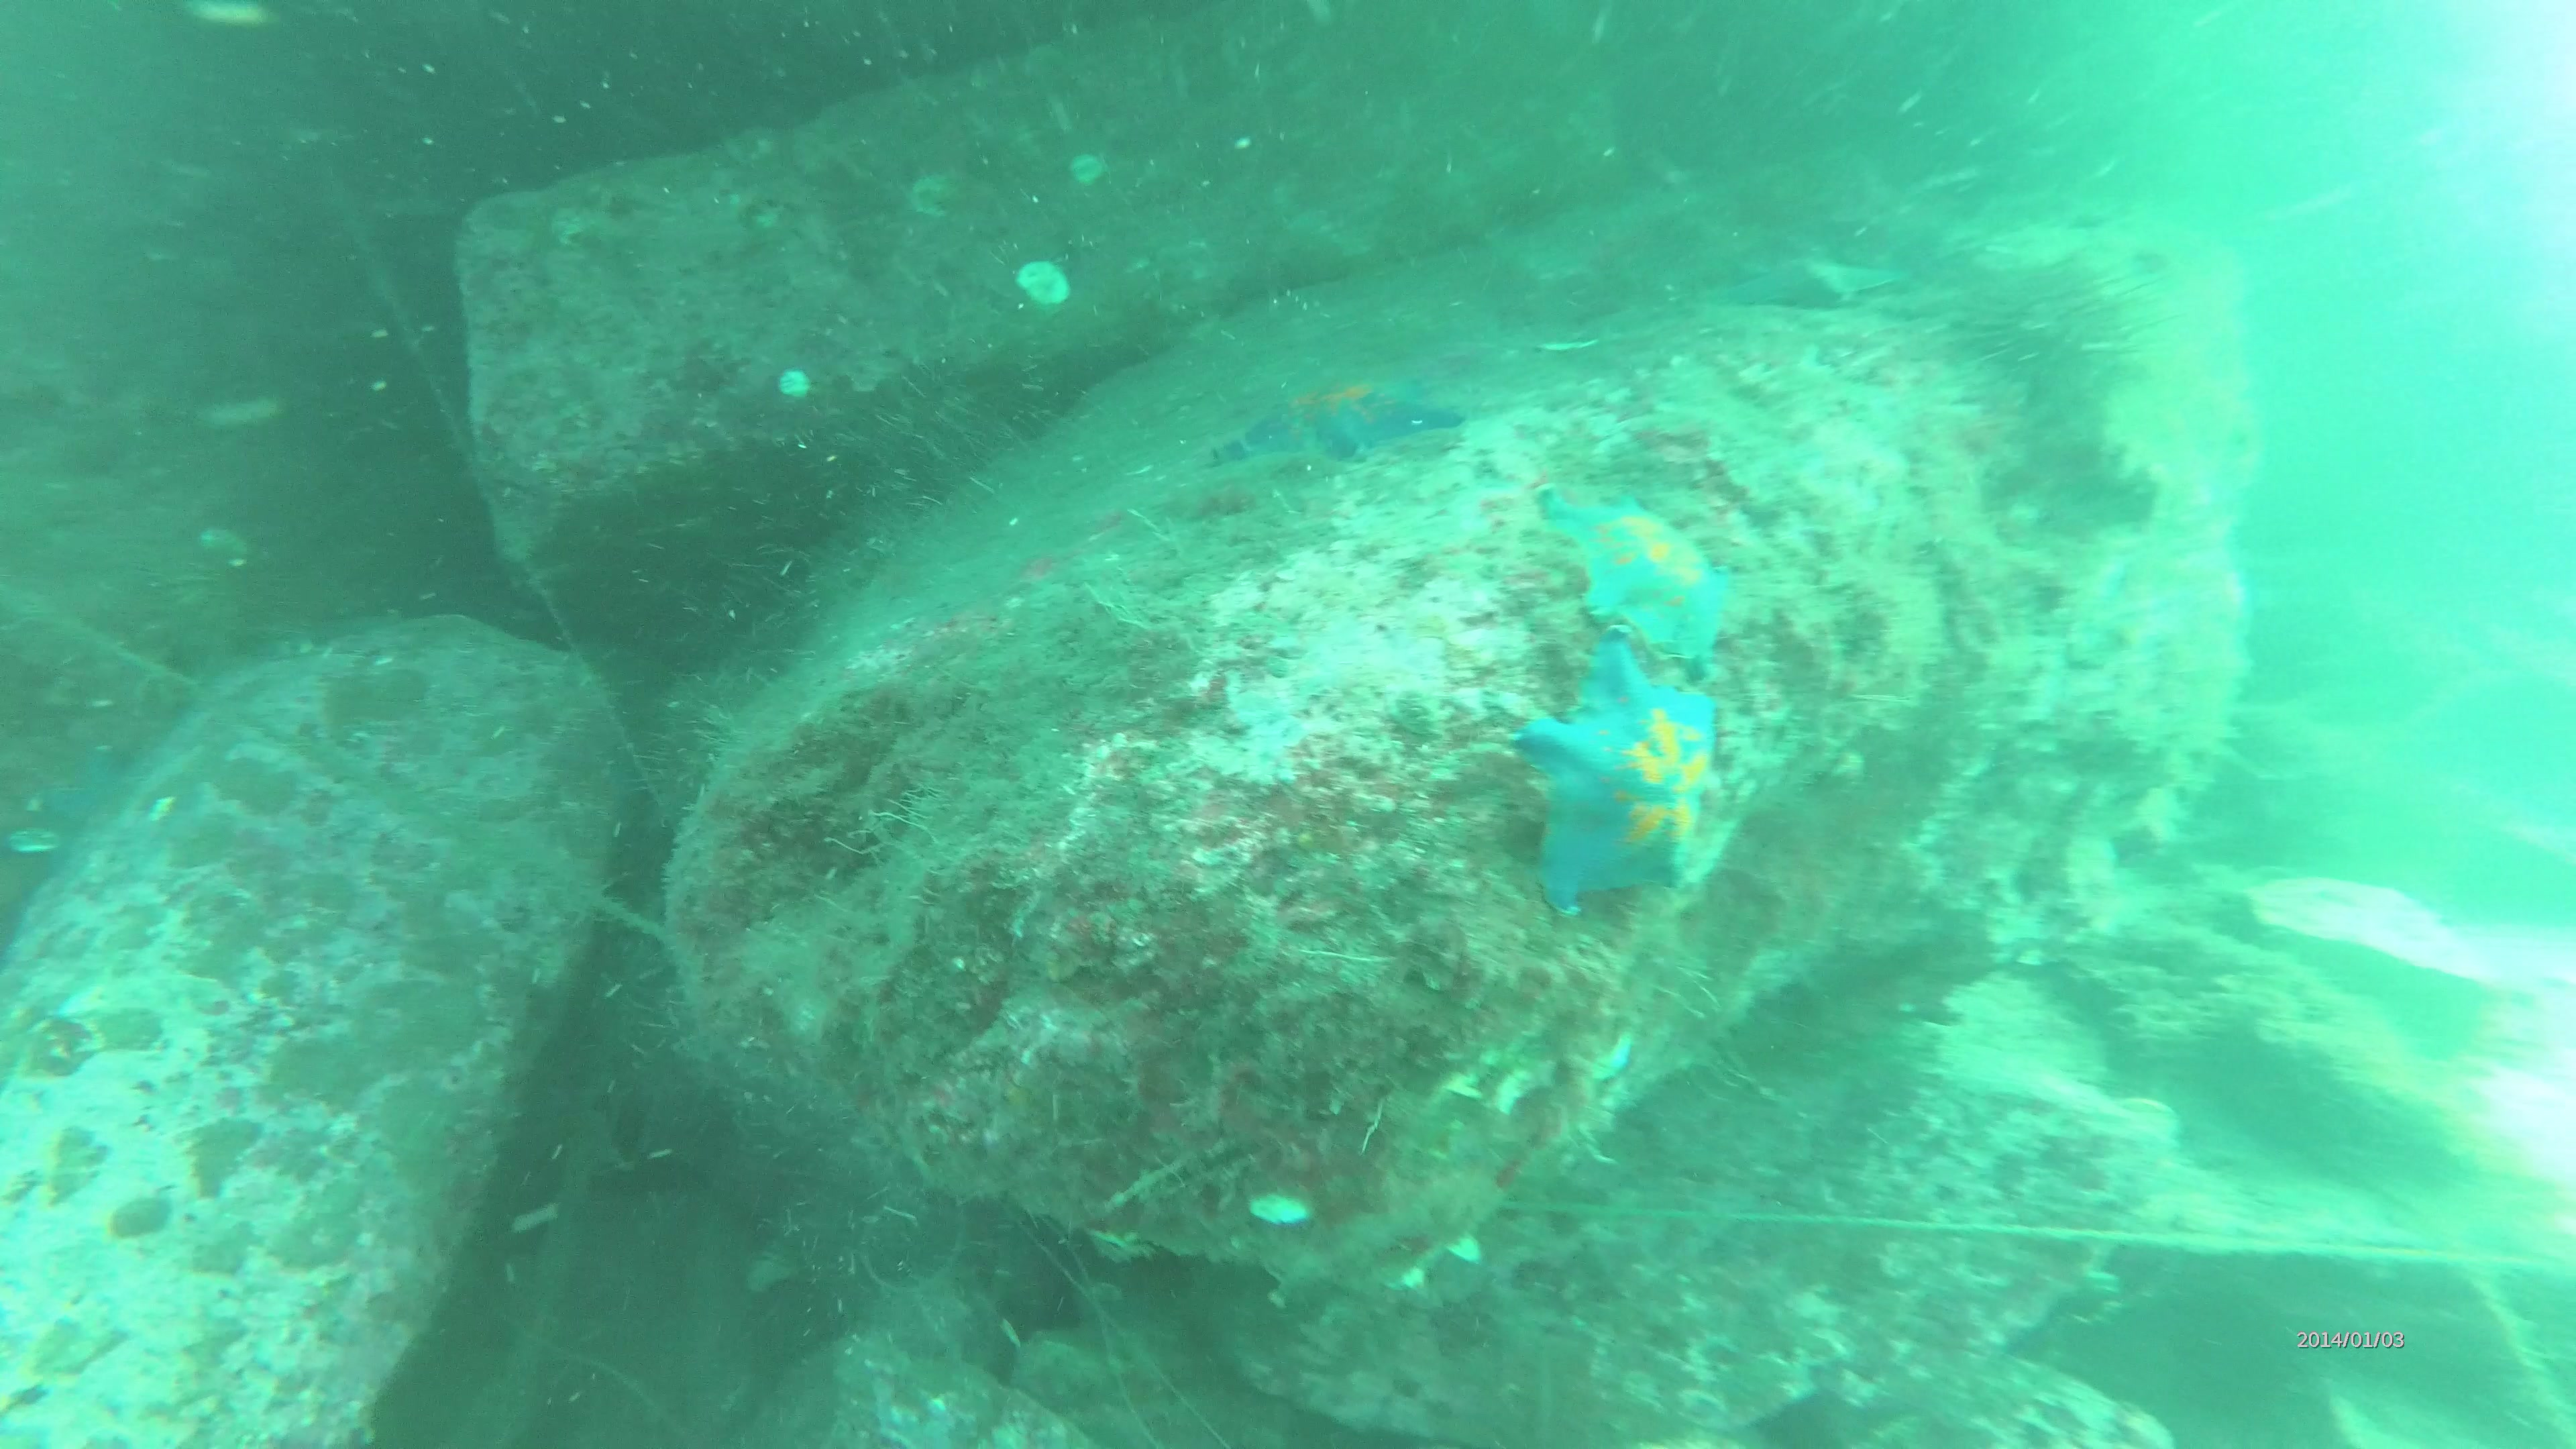starfish: (1504, 630, 1721, 908), (1539, 479, 1732, 683), (1207, 368, 1458, 469), (1721, 248, 1921, 324)
